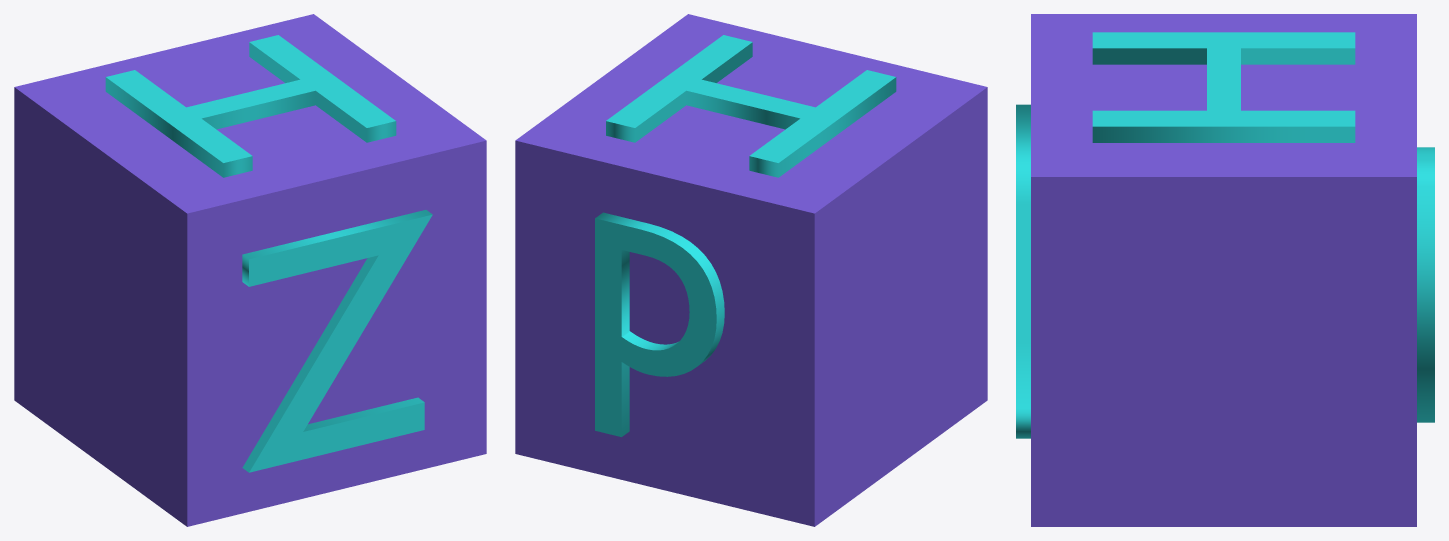
Rendered from letra1.glb.
3 views of the same model, side by side, from view 1: azimuth 30°, elevation 25°; view 2: azimuth 150°, elevation 25°; view 3: azimuth 270°, elevation 25° (orthographic). The views are drawn at different scales.
Visible parts, largest first — view 1: Cube1; view 2: Cube1; view 3: Cube1.
Boxes of the visible parts, box(x1,y1,x2,y2) form: Cube1: box(14, 14, 486, 526); Cube1: box(515, 14, 987, 526); Cube1: box(1016, 14, 1434, 526).
Bounding box in the file's own units: 2 × 2.19 × 2.17.
